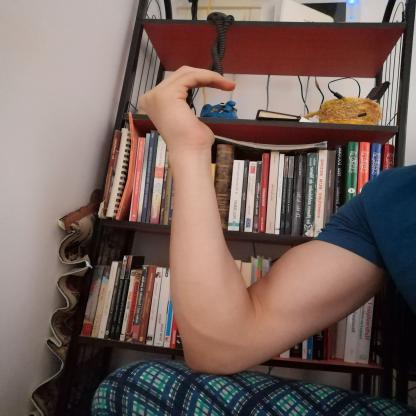HAA: (128, 56, 252, 166)
